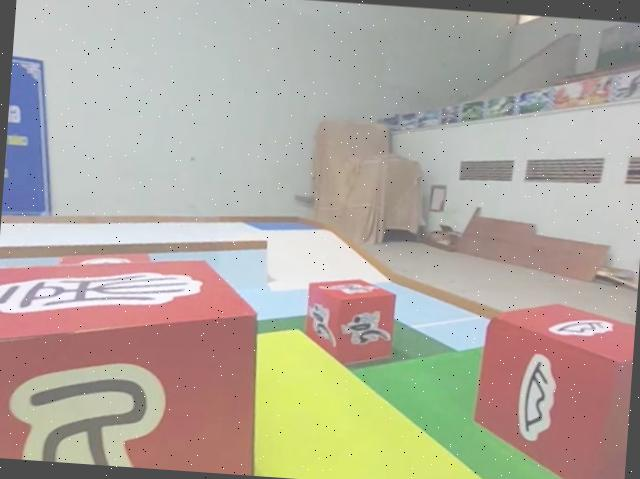R1: (301, 270, 397, 374)
R2 Fake: (0, 241, 270, 475)
R2 Real: (463, 289, 636, 479)
